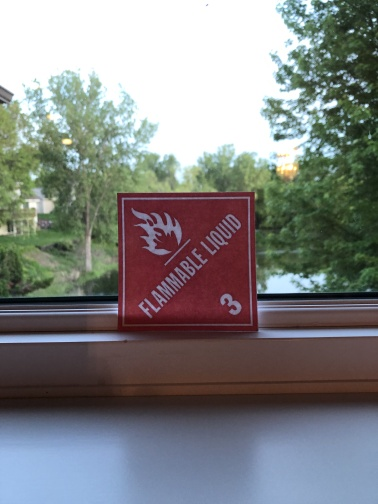FlammableLiquid: (119, 196, 256, 328)
